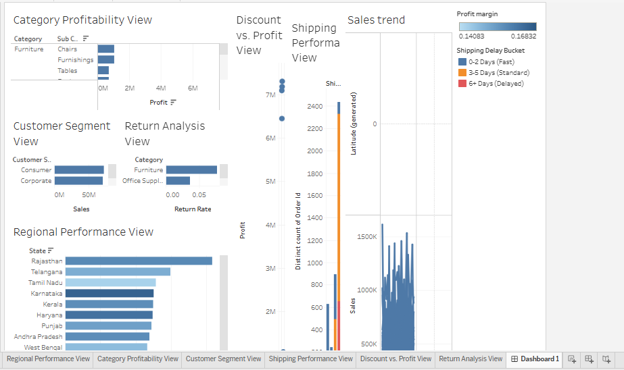

What the dashboard file says about the page in this screenshot:
{"tool":"tableau","page":{"name":"Dashboard 1","canvas":[1000,800],"ordinal":0},"visuals":[{"type":"worksheet","title":"Category Profitability View","mark":"Automatic","rows":["category","sub_category"],"cols":["profit"],"box":[8,8,412,196]},{"type":"worksheet","title":"Discount vs. Profit View","mark":"Circle","rows":["profit"],"cols":["discount"],"box":[420,8,103,784]},{"type":"worksheet","title":"Shipping Performance View","mark":"Automatic","rows":["order_id"],"cols":["ship_mode"],"box":[523,8,103,784]},{"type":"worksheet","title":"Sales trend","mark":"Line","rows":["sales"],"cols":["order_date"],"box":[626,8,206,784]},{"type":"legend","title":"Regional Performance View","param":"[federated.1i5hbo60fp2qvq1cbu71l0grhcwd].[usr:Calculation_0014036341116945:qk]","box":[832,8,160,68]},{"type":"legend","title":"Shipping Performance View","param":"[federated.1i5hbo60fp2qvq1cbu71l0grhcwd].[none:Calculation_0014036346069014:nk]","box":[832,76,160,87]},{"type":"worksheet","title":"Customer Segment View","mark":"Bar","rows":["customer_segment"],"cols":["sales"],"box":[8,204,206,196]},{"type":"worksheet","title":"Return Analysis View","mark":"Bar","rows":["category"],"cols":["Calculation_0014036345978901"],"box":[214,204,206,196]},{"type":"worksheet","title":"Regional Performance View","mark":"Bar","rows":["state"],"cols":["sales"],"box":[8,400,412,392]}]}

Visuals, with their boxes on the page's 1000x800 design canvas (x1, y1, x2, y2). These are canvas units, not pixel positions in the 624x370 screenshot, which may show the page scaled, cropped or inside an application window:
"Category Profitability View" worksheet: x1=8 y1=8 x2=420 y2=204
"Discount vs. Profit View" worksheet (Circle marks): x1=420 y1=8 x2=523 y2=792
"Shipping Performance View" worksheet: x1=523 y1=8 x2=626 y2=792
"Sales trend" worksheet (Line marks): x1=626 y1=8 x2=832 y2=792
"Regional Performance View" legend: x1=832 y1=8 x2=992 y2=76
"Shipping Performance View" legend: x1=832 y1=76 x2=992 y2=163
"Customer Segment View" worksheet (Bar marks): x1=8 y1=204 x2=214 y2=400
"Return Analysis View" worksheet (Bar marks): x1=214 y1=204 x2=420 y2=400
"Regional Performance View" worksheet (Bar marks): x1=8 y1=400 x2=420 y2=792
